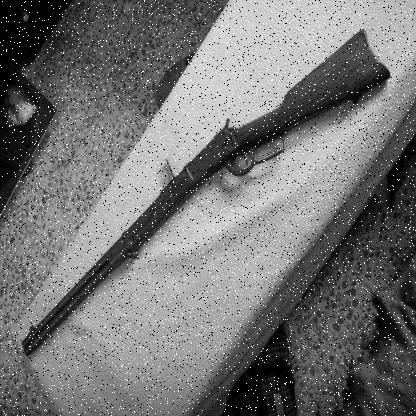rifle: (16, 15, 404, 367)
